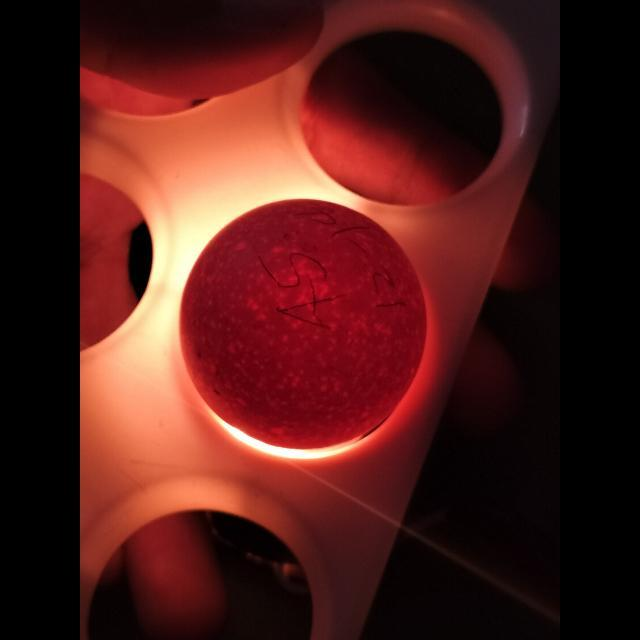Infertile: (180, 196, 420, 448)
